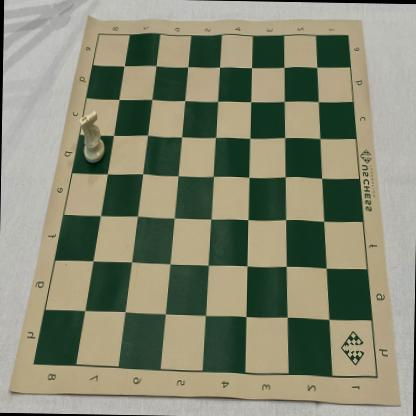white-knight: (79, 109, 105, 164)
